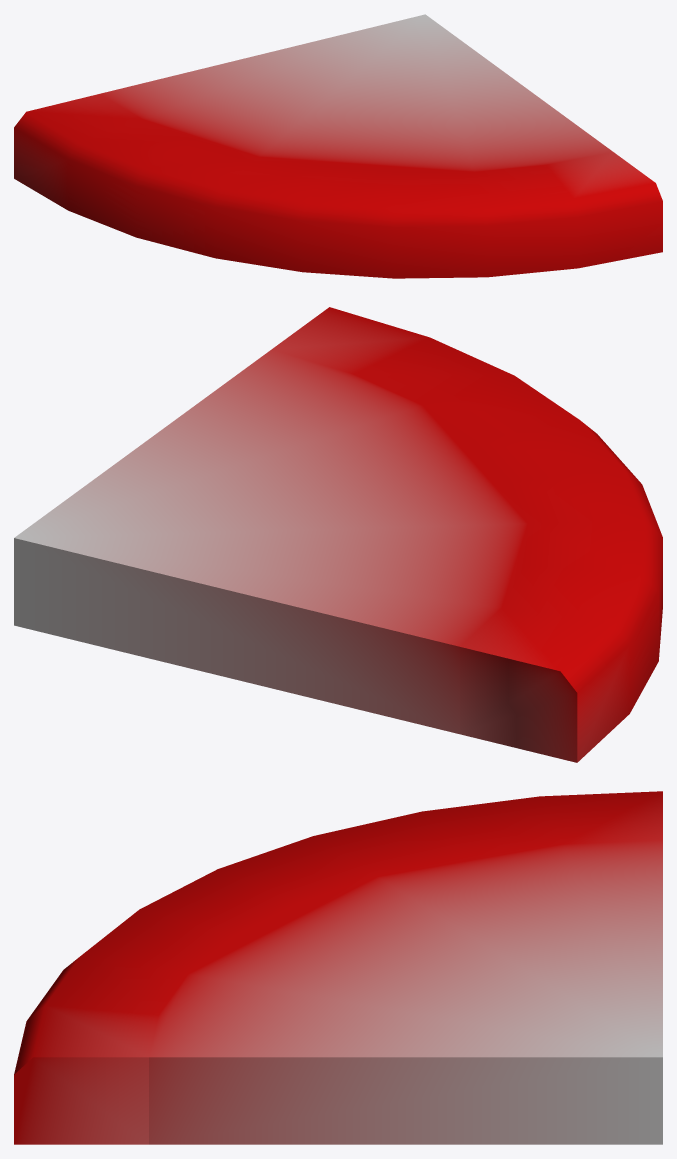
File: Sidewalk_Corner_Round_1m.gltf
3 views of the same model, one above another, from view 1: azimuth 30°, elevation 25°; view 2: azimuth 150°, elevation 25°; view 3: azimuth 270°, elevation 25° (orthographic). The views are drawn at different scales.
Parts seen in each view (by area): view 1: Sidewalk_Corner_Round_1m; view 2: Sidewalk_Corner_Round_1m; view 3: Sidewalk_Corner_Round_1m.
Part boxes in pixels (<box>): Sidewalk_Corner_Round_1m: <box>14,14,662,278</box>; Sidewalk_Corner_Round_1m: <box>14,307,662,762</box>; Sidewalk_Corner_Round_1m: <box>14,791,662,1144</box>.
Size of what is drawn, in the model's own units: 1.01 by 0.15 by 1.01.
